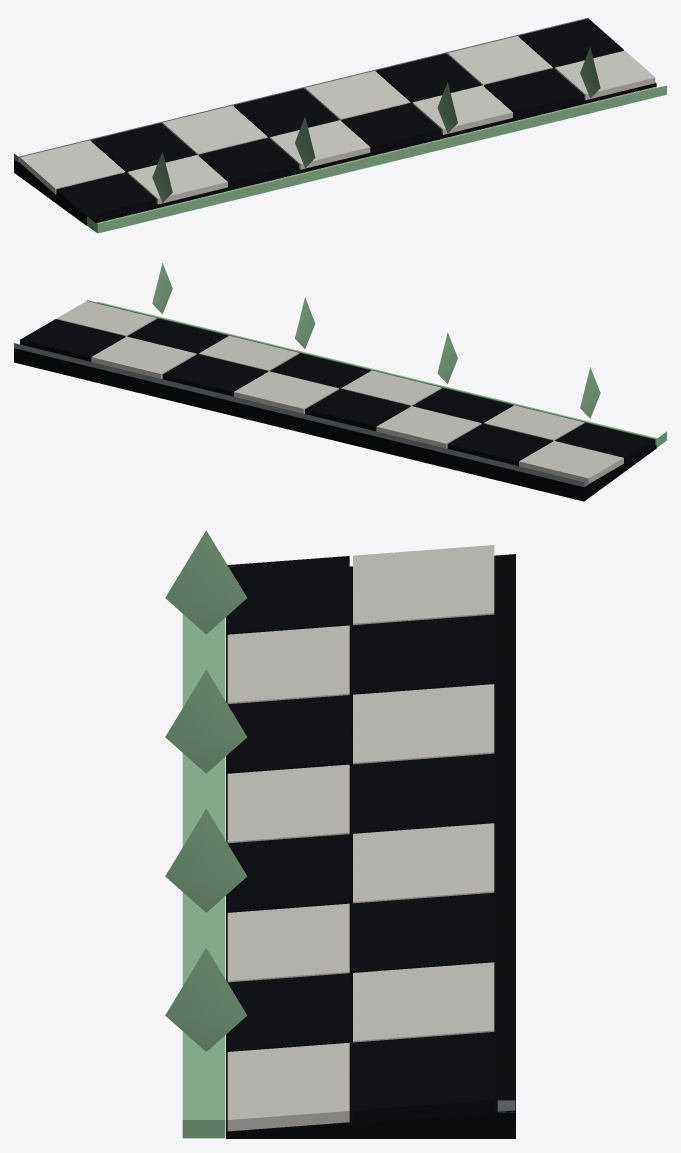
Rendered from v4_apron.glb.
3 renders of one model, top to bottom at view 1: azimuth 30°, elevation 25°; view 2: azimuth 150°, elevation 25°; view 3: azimuth 270°, elevation 25°, orthographic. The views are drawn at different scales.
Parts seen in each view (by area): view 1: Pavers_B, Pavers_A, Nosing_Line, Apron_Body, Apron_Crests, Drain_Grate; view 2: Pavers_B, Pavers_A, Apron_Body, Drain_Grate, Apron_Crests, Nosing_Line; view 3: Pavers_A, Pavers_B, Apron_Body, Apron_Crests, Nosing_Line.
Part boxes in pixels (bbox=[...]): Pavers_B: bbox=[56, 18, 623, 221]; Pavers_A: bbox=[20, 36, 655, 204]; Nosing_Line: bbox=[87, 85, 666, 233]; Apron_Body: bbox=[14, 82, 656, 225]; Apron_Crests: bbox=[152, 47, 600, 202]; Drain_Grate: bbox=[14, 17, 588, 162]; Pavers_B: bbox=[20, 318, 655, 465]; Pavers_A: bbox=[56, 301, 623, 483]; Apron_Body: bbox=[14, 348, 656, 501]; Drain_Grate: bbox=[14, 343, 588, 487]; Apron_Crests: bbox=[152, 263, 600, 418]; Nosing_Line: bbox=[87, 300, 666, 447]; Pavers_A: bbox=[227, 545, 494, 1131]; Pavers_B: bbox=[227, 556, 494, 1121]; Apron_Body: bbox=[226, 554, 515, 1138]; Apron_Crests: bbox=[165, 530, 247, 1051]; Nosing_Line: bbox=[182, 614, 225, 1138].
Size of what is drawn, in the model's own units: 4 by 0.408 by 1.07.
Materials: 5 (2 with a texture image).
